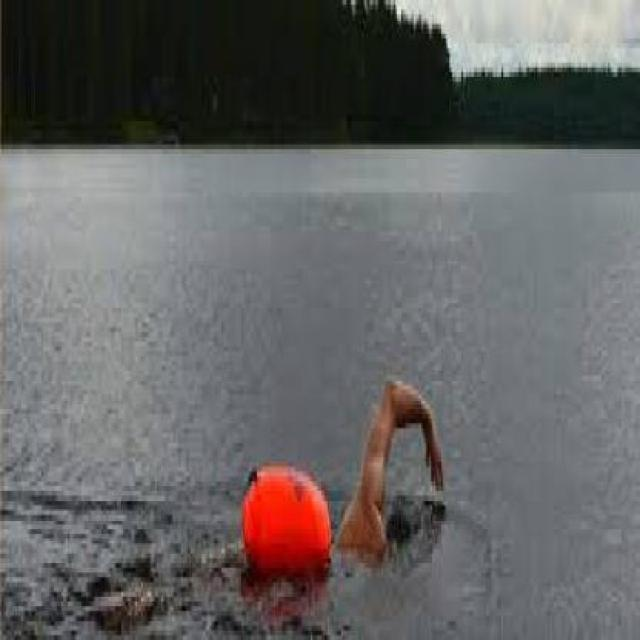buoy: (239, 439, 342, 603)
